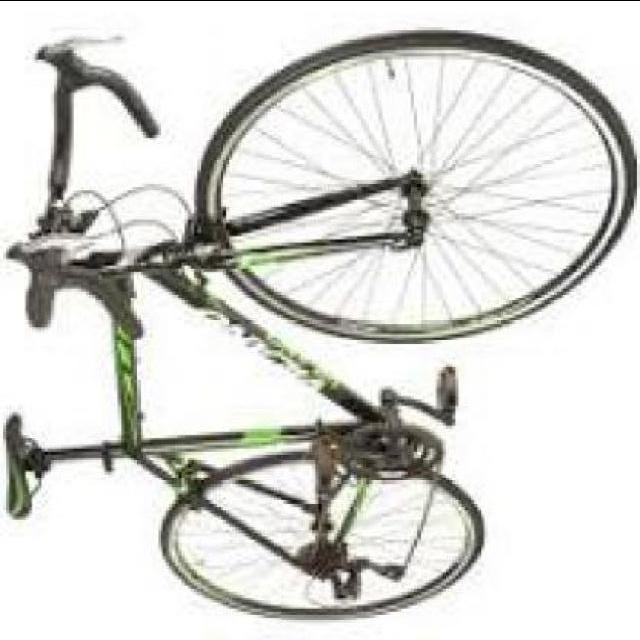bicycle: (1, 25, 638, 639)
